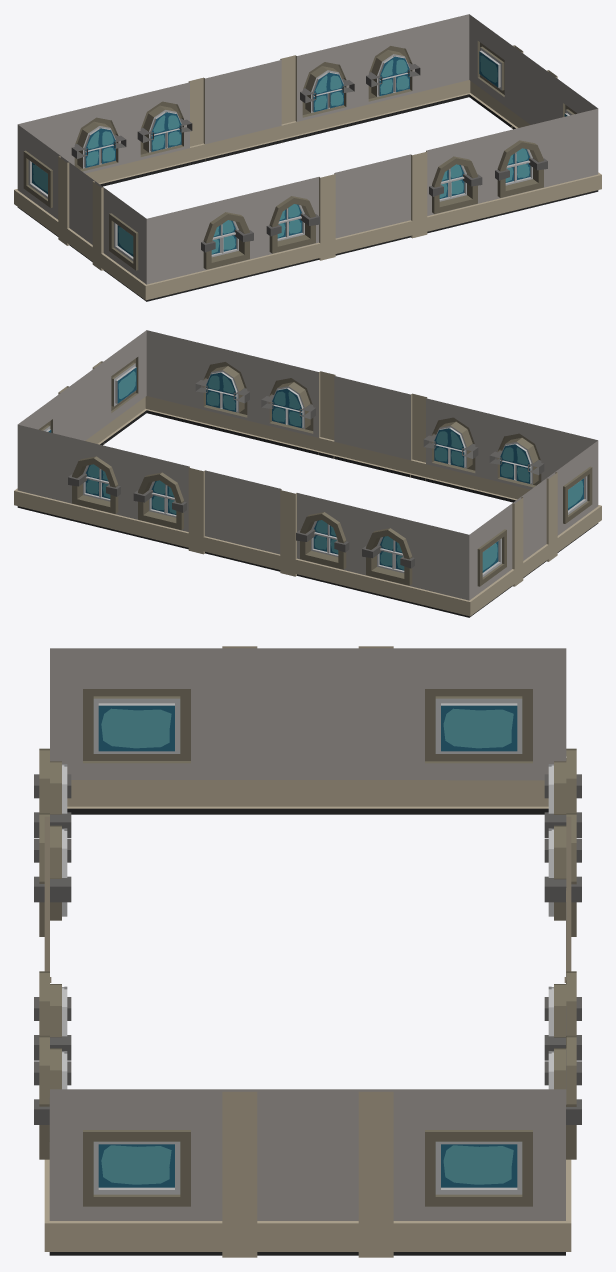
Rendered from Building_B_01_02.FBX.
The picture shows the model from 3 angles, top to bottom: view 1: azimuth 30°, elevation 25°; view 2: azimuth 150°, elevation 25°; view 3: azimuth 270°, elevation 25°; orthographic projection. The views are drawn at different scales.
Parts seen in each view (by area): view 1: Building_B_01_02; view 2: Building_B_01_02; view 3: Building_B_01_02.
Part boxes in pixels (left/top/right/bottom): Building_B_01_02: left=14, top=14, right=601, bottom=301; Building_B_01_02: left=14, top=330, right=601, bottom=617; Building_B_01_02: left=34, top=646, right=581, bottom=1257.
Bounding box in the file's own units: 10 × 1.74 × 5.2.
